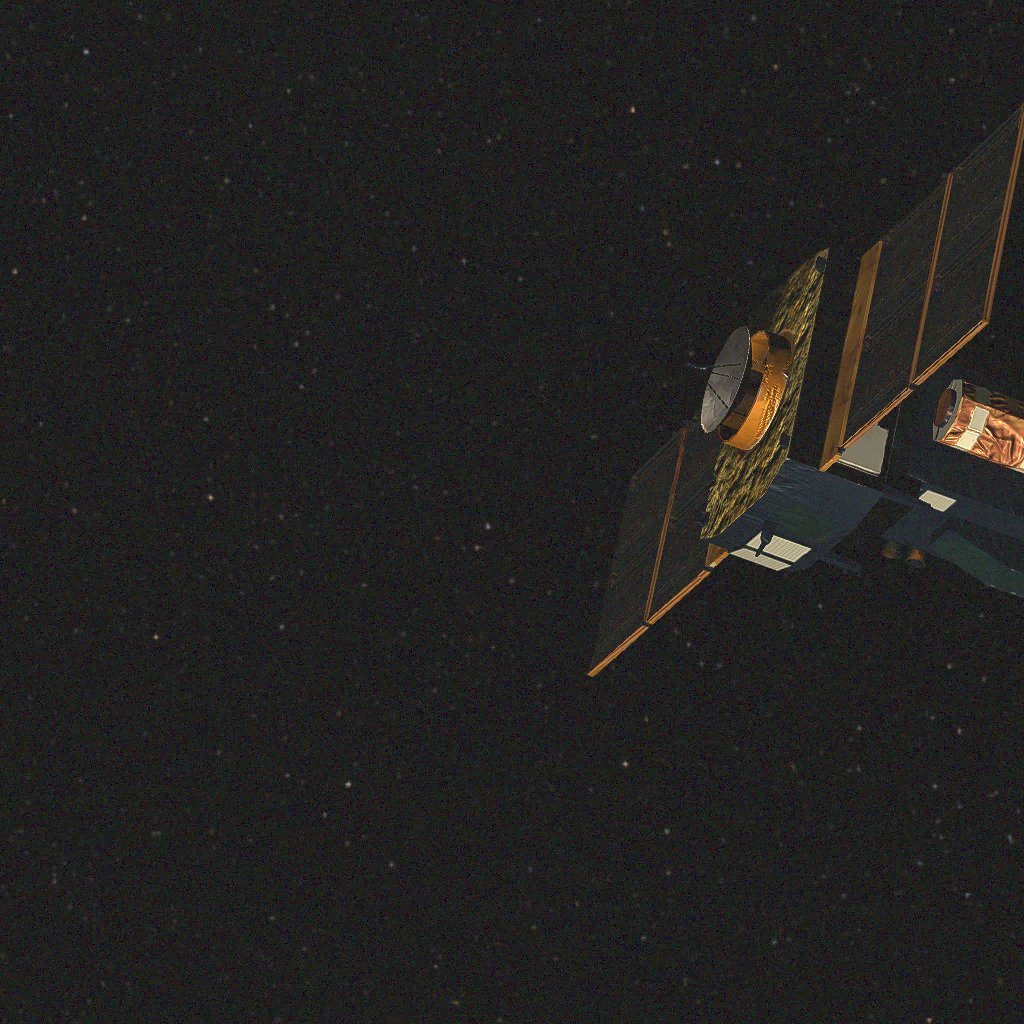soho: (587, 102, 1024, 677)
